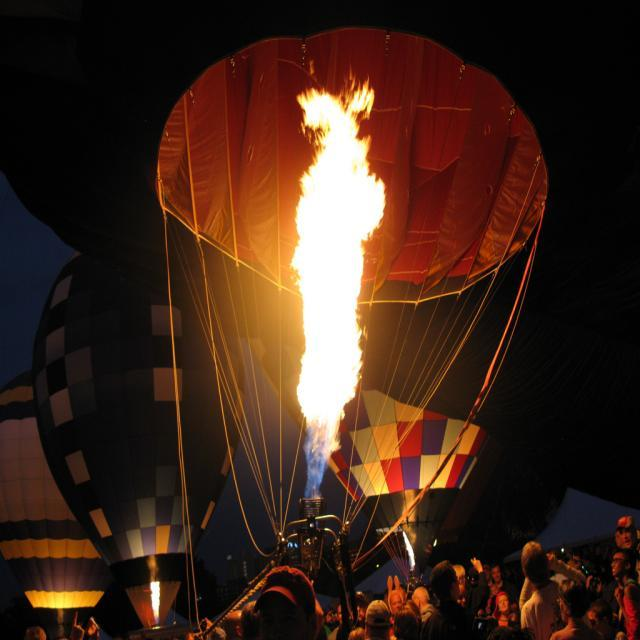Fire: (304, 160, 356, 435)
